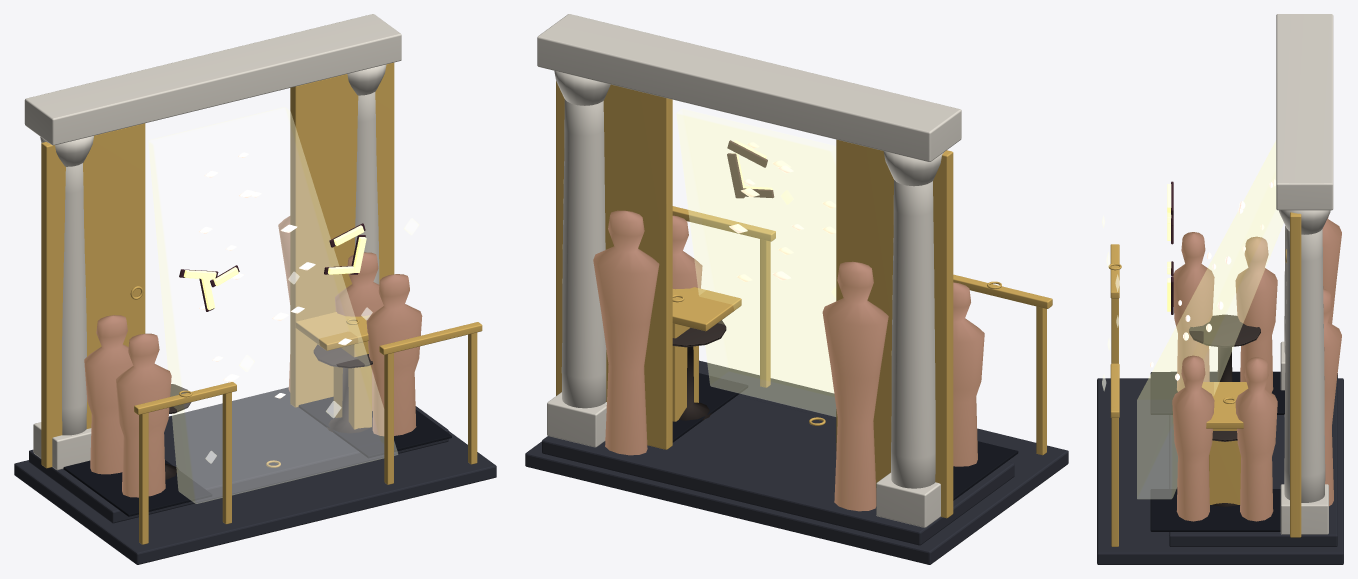
File: webtoon-zdepth-crowd-banquet-sunset-3200k-v23.glb
3 renders of one model, left to right at view 1: azimuth 30°, elevation 25°; view 2: azimuth 150°, elevation 25°; view 3: azimuth 270°, elevation 25°, orthographic. The views are drawn at different scales.
Visible parts, largest first — view 1: Volumetric_V23Beat2_3200K_GodRaySlit, Articulated_V23Beat2_3200K_DoorsAndIkRig, V23Beat2_3200K_DatumDeck, V23Beat2_3200K_PortalColonnade, DatumCrowd_V23Beat2_3200K_Silhouettes, ShadowDrift_V23Beat2_3200K_UmbraMask, DatumCrowd_V23Beat2_3200K_Tables074m, ZDepthSFX_V23Beat2_3200K_GlyphCore, Atmospheric_V23Beat2_3200K_MidMotes, Atmospheric_V23Beat2_3200K_FgBokehLayer; view 2: V23Beat2_3200K_PortalColonnade, Articulated_V23Beat2_3200K_DoorsAndIkRig, Volumetric_V23Beat2_3200K_GodRaySlit, V23Beat2_3200K_DatumDeck, DatumCrowd_V23Beat2_3200K_Silhouettes, ShadowDrift_V23Beat2_3200K_UmbraMask, DatumCrowd_V23Beat2_3200K_Tables074m, ZDepthSFX_V23Beat2_3200K_ShadowPlate, Atmospheric_V23Beat2_3200K_MidMotes; view 3: DatumCrowd_V23Beat2_3200K_Silhouettes, V23Beat2_3200K_PortalColonnade, V23Beat2_3200K_DatumDeck, Volumetric_V23Beat2_3200K_GodRaySlit, Articulated_V23Beat2_3200K_DoorsAndIkRig, ShadowDrift_V23Beat2_3200K_UmbraMask, DatumCrowd_V23Beat2_3200K_Tables074m, Atmospheric_V23Beat2_3200K_MidMotes, ZDepthSFX_V23Beat2_3200K_GlyphCore, ZDepthSFX_V23Beat2_3200K_ShadowPlate.
Part boxes in pixels (<box>): Volumetric_V23Beat2_3200K_GodRaySlit: <box>148,107,397,503</box>; Articulated_V23Beat2_3200K_DoorsAndIkRig: <box>41,62,482,544</box>; V23Beat2_3200K_DatumDeck: <box>14,387,496,564</box>; V23Beat2_3200K_PortalColonnade: <box>24,14,401,470</box>; DatumCrowd_V23Beat2_3200K_Silhouettes: <box>84,216,422,497</box>; ShadowDrift_V23Beat2_3200K_UmbraMask: <box>63,397,451,516</box>; DatumCrowd_V23Beat2_3200K_Tables074m: <box>165,344,372,479</box>; ZDepthSFX_V23Beat2_3200K_GlyphCore: <box>183,225,366,310</box>; Atmospheric_V23Beat2_3200K_MidMotes: <box>199,152,351,398</box>; Atmospheric_V23Beat2_3200K_FgBokehLayer: <box>205,218,419,463</box>; V23Beat2_3200K_PortalColonnade: <box>537,14,961,527</box>; Articulated_V23Beat2_3200K_DoorsAndIkRig: <box>556,81,1052,518</box>; Volumetric_V23Beat2_3200K_GodRaySlit: <box>676,109,835,416</box>; V23Beat2_3200K_DatumDeck: <box>525,360,1068,564</box>; DatumCrowd_V23Beat2_3200K_Silhouettes: <box>593,210,984,511</box>; ShadowDrift_V23Beat2_3200K_UmbraMask: <box>672,373,1018,500</box>; DatumCrowd_V23Beat2_3200K_Tables074m: <box>672,320,726,420</box>; ZDepthSFX_V23Beat2_3200K_ShadowPlate: <box>727,140,773,198</box>; Atmospheric_V23Beat2_3200K_MidMotes: <box>729,142,836,281</box>; DatumCrowd_V23Beat2_3200K_Silhouettes: <box>1172,216,1341,521</box>; V23Beat2_3200K_PortalColonnade: <box>1276,14,1333,534</box>; V23Beat2_3200K_DatumDeck: <box>1097,371,1343,564</box>; Volumetric_V23Beat2_3200K_GodRaySlit: <box>1137,141,1283,498</box>; Articulated_V23Beat2_3200K_DoorsAndIkRig: <box>1108,212,1301,546</box>; ShadowDrift_V23Beat2_3200K_UmbraMask: <box>1150,372,1284,531</box>; DatumCrowd_V23Beat2_3200K_Tables074m: <box>1189,314,1260,506</box>; Atmospheric_V23Beat2_3200K_MidMotes: <box>1150,179,1276,380</box>; ZDepthSFX_V23Beat2_3200K_GlyphCore: <box>1167,184,1171,311</box>; ZDepthSFX_V23Beat2_3200K_ShadowPlate: <box>1171,181,1173,314</box>.
Bounding box in the file's own units: 2.76 × 2.78 × 1.64.
